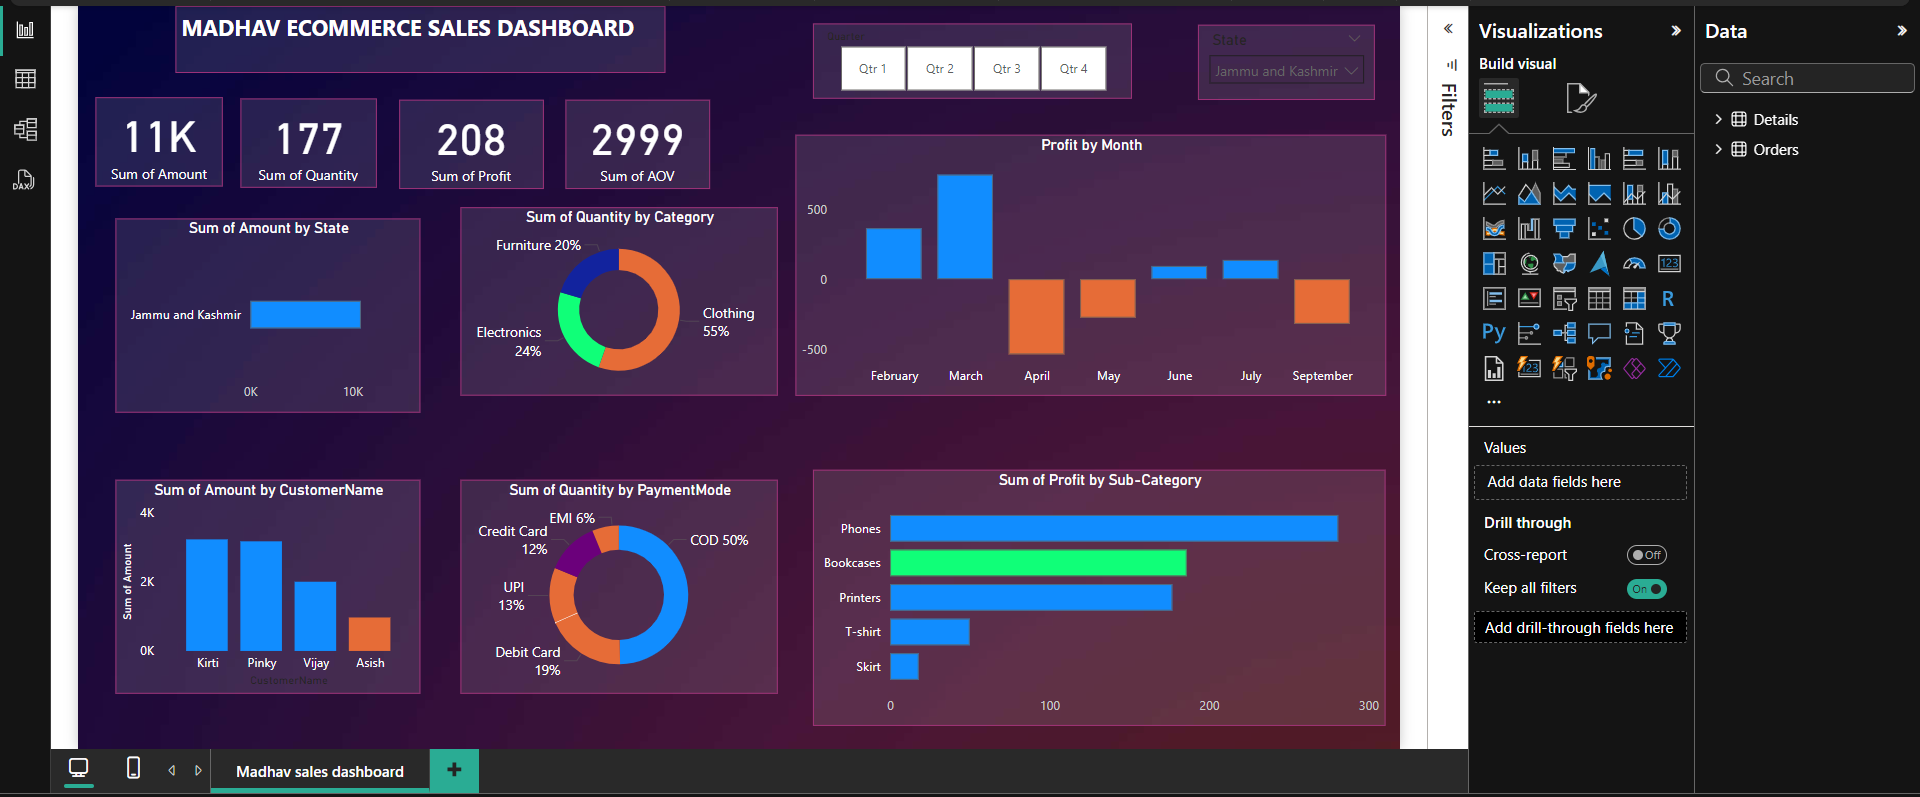

The dashboard page shown, as its layout file describes it:
{"tool":"powerbi","page":{"name":"Madhav sales dashboard","canvas":[1280,720],"ordinal":0},"visuals":[{"type":"textbox","box":[94.7,0,474.8,64.5],"z":0},{"type":"columnChart","title":"Profit by Month","fields":{"Y":["Sum(Details.Profit)"],"Category":["Orders.Order Date.Variation.Date Hierarchy.Month"]},"box":[694.3,124.9,572.2,252.5],"z":1000},{"type":"barChart","fields":{"Category":["Details.Sub-Category"],"Y":["Sum(Details.Profit)"]},"box":[711.8,449.1,554.4,248.2],"z":2000},{"type":"donutChart","fields":{"Category":["Details.Category"],"Y":["Sum(Details.Quantity)"]},"box":[370.5,194.9,307.4,182.5],"z":3000},{"type":"donutChart","fields":{"Y":["Sum(Details.Quantity)"],"Category":["Details.PaymentMode"]},"box":[370.4,458.8,307.5,207],"z":4000},{"type":"card","fields":{"Values":["Sum(Details.Amount)"]},"box":[16.5,87.8,123.5,86.4],"z":5000},{"type":"card","fields":{"Values":["Sum(Details.Quantity)"]},"box":[157.8,89.2,131.7,86.4],"z":6000},{"type":"card","fields":{"Values":["Sum(Details.Profit)"]},"box":[311.5,90.6,140,86.4],"z":7000},{"type":"card","fields":{"Values":["Sum(Details.AOV)"]},"box":[472,90.6,140,86.4],"z":8000},{"type":"barChart","fields":{"Category":["Orders.State"],"Y":["Sum(Details.Amount)"]},"box":[36.3,205.8,295.4,187.6],"z":9000},{"type":"columnChart","fields":{"Category":["Orders.CustomerName"],"Y":["Sum(Details.Amount)"]},"box":[36.3,458.8,295.4,207],"z":10000},{"type":"slicer","fields":{"Values":["Orders.Order Date.Variation.Date Hierarchy.Quarter"]},"box":[712.2,16.5,308.7,72.7],"z":11000},{"type":"slicer","fields":{"Values":["Orders.State"]},"box":[1084.1,17.8,171.5,72.7],"z":12000}]}

Visuals, with their boxes on the page's 1280x720 design canvas (x1, y1, x2, y2). These are canvas units, not pixel positions in the 1920x797 screenshot, which may show the page scaled, cropped or inside an application window:
textbox: region(95, 0, 570, 64)
"Profit by Month" columnChart: region(694, 125, 1266, 377)
barChart - Details.Sub-Category x Sum(Details.Profit): region(712, 449, 1266, 697)
donutChart - Details.Category x Sum(Details.Quantity): region(370, 195, 678, 377)
donutChart - Sum(Details.Quantity) x Details.PaymentMode: region(370, 459, 678, 666)
card - Sum(Details.Amount): region(16, 88, 140, 174)
card - Sum(Details.Quantity): region(158, 89, 290, 176)
card - Sum(Details.Profit): region(312, 91, 452, 177)
card - Sum(Details.AOV): region(472, 91, 612, 177)
barChart - Orders.State x Sum(Details.Amount): region(36, 206, 332, 393)
columnChart - Orders.CustomerName x Sum(Details.Amount): region(36, 459, 332, 666)
slicer - Orders.Order Date.Variation.Date Hierarchy.Quarter: region(712, 16, 1021, 89)
slicer - Orders.State: region(1084, 18, 1256, 90)
